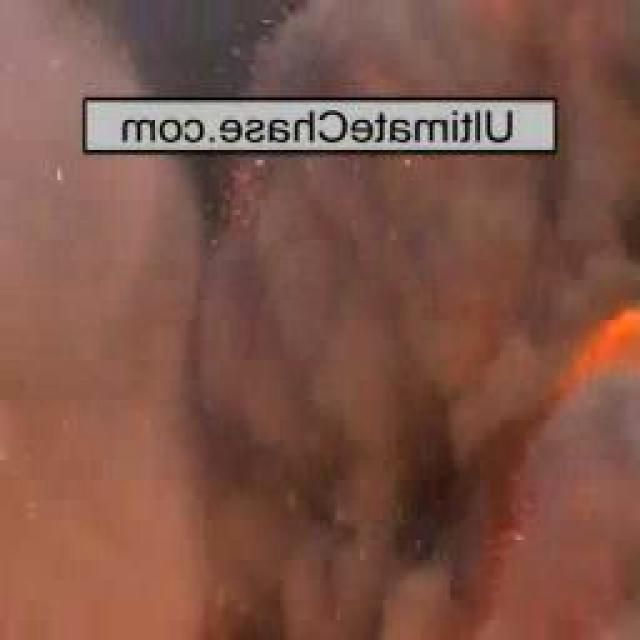Fire: (504, 288, 640, 432), (412, 3, 582, 40)
